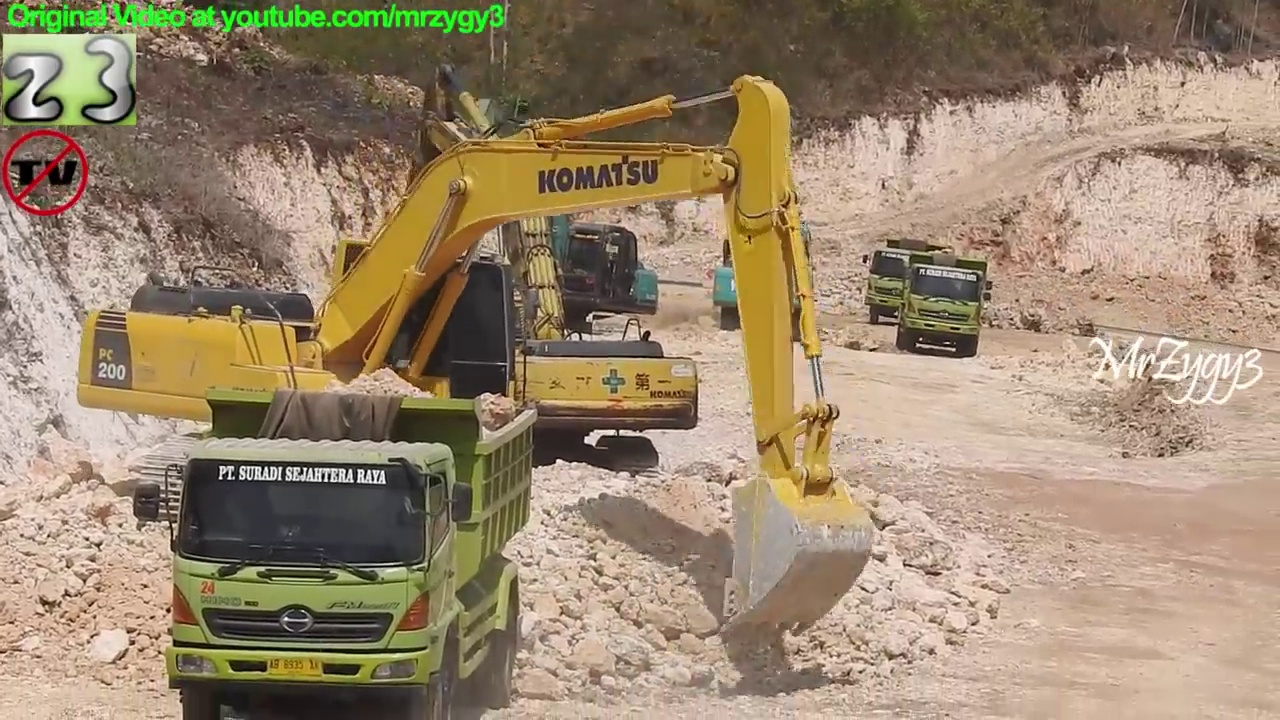excavator: (72, 72, 881, 638), (288, 58, 705, 490), (417, 85, 665, 355), (706, 181, 822, 337)
truck: (131, 382, 543, 720), (893, 245, 996, 362), (860, 236, 961, 328)
